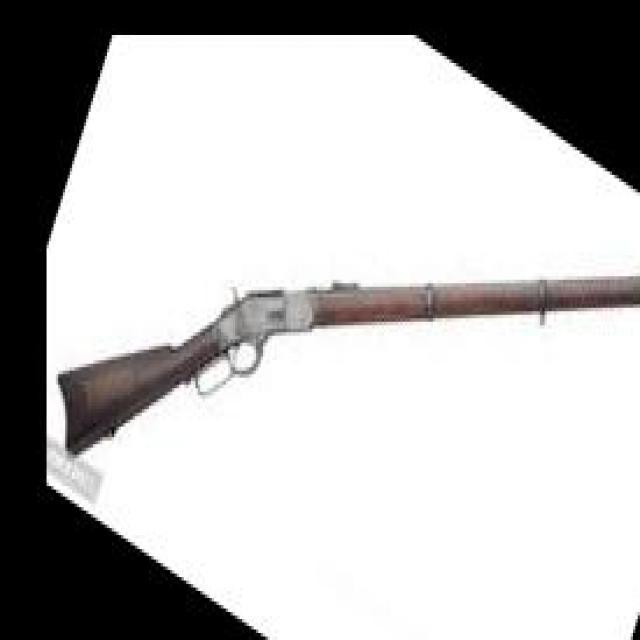weapon: (55, 274, 640, 462)
